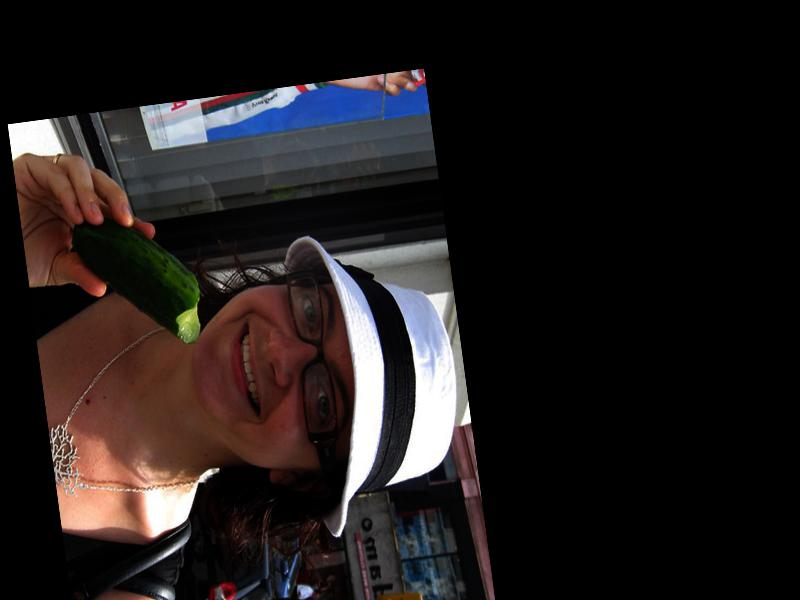Cucumber: (69, 203, 206, 355)
